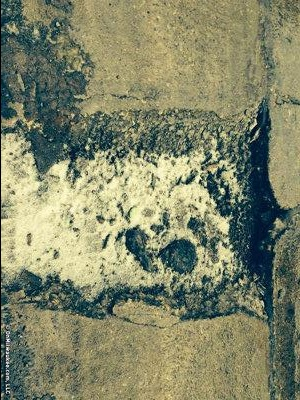pothole: (0, 89, 285, 329)
